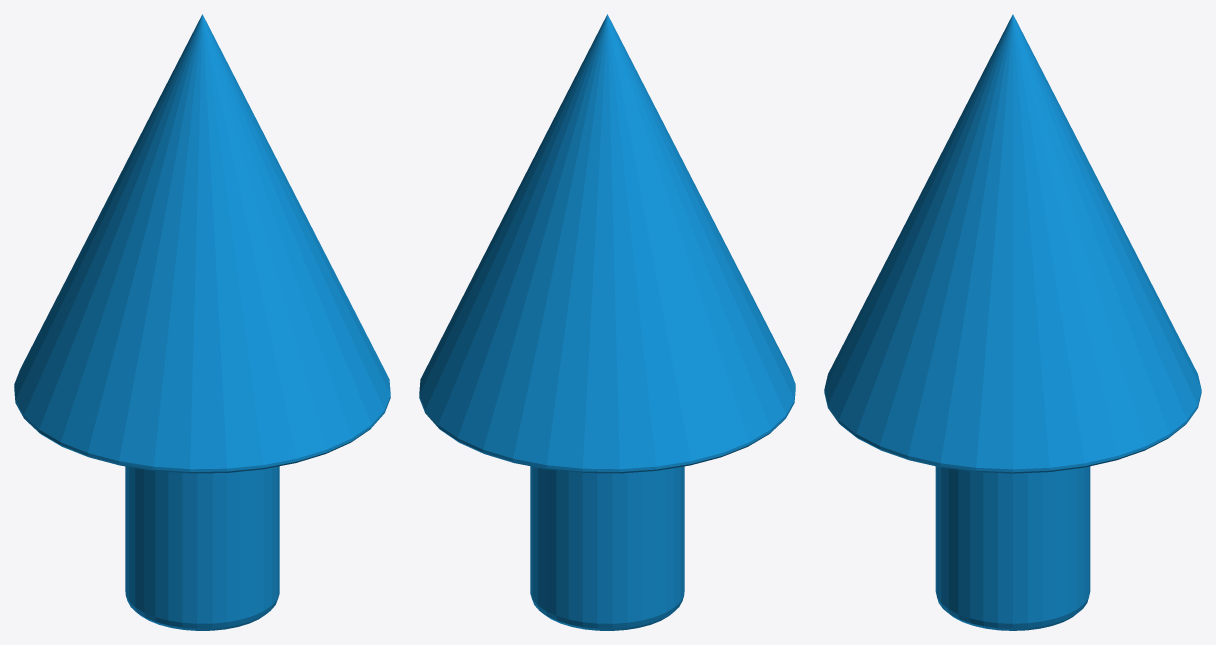
The model's file is arrow.glb.
3 views of the same model, side by side, from view 1: azimuth 30°, elevation 25°; view 2: azimuth 150°, elevation 25°; view 3: azimuth 270°, elevation 25° (orthographic).
Parts seen in each view (by area): view 1: Cone; view 2: Cone; view 3: Cone.
Part boxes in pixels (<box>): Cone: <box>14,14,390,630</box>; Cone: <box>419,14,795,630</box>; Cone: <box>824,14,1201,630</box>.
Bounding box in the file's own units: 1.77 × 3.05 × 1.77.
